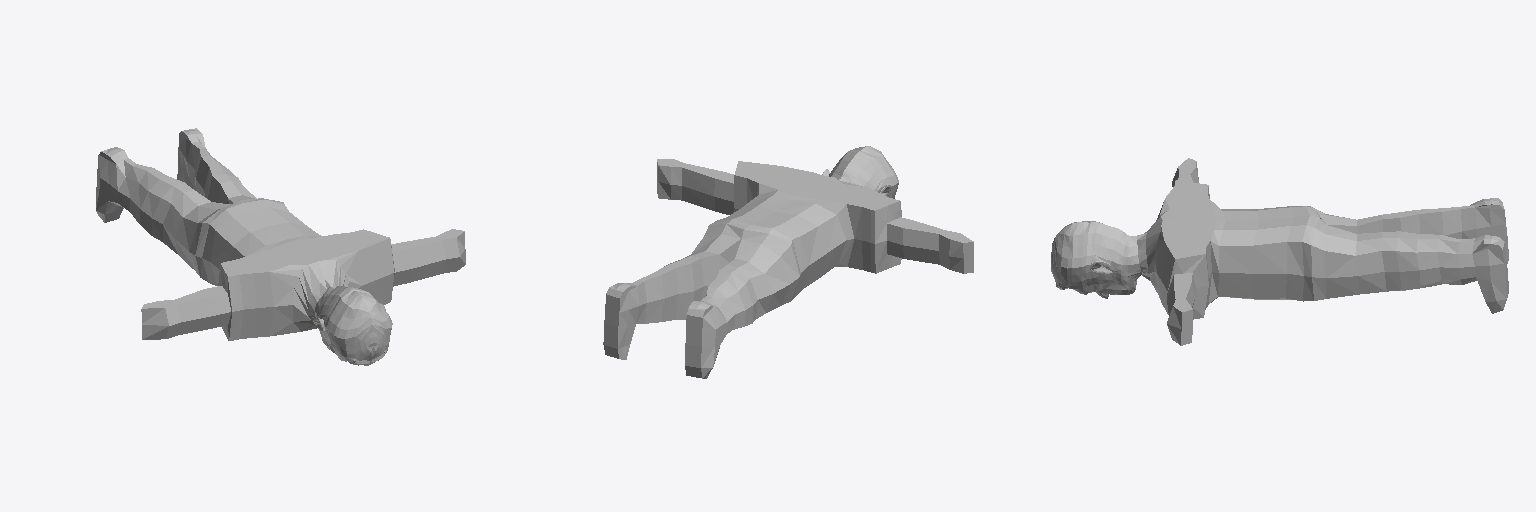
File: logan_completo4.obj
The picture shows the model from 3 angles: view 1: azimuth 30°, elevation 25°; view 2: azimuth 150°, elevation 25°; view 3: azimuth 270°, elevation 25°; orthographic projection.
Parts seen in each view (by area): view 1: Cube.009_Cube.009, Cube.010_Cube.010, Cube.001_Cube.001, Cube.002_Cube.002, Cube.014_Cube.014, Cube.017_Cube.017, Cube.011_Cube.011, Cube.007_Cube.007, Cube.003_Cube.003, Cube.005_Cube.005, Cube.004_Cube.004, Cube.013_Cube.013 (+2 smaller); view 2: Cube.009_Cube.009, Cube.001_Cube.001, Cube.010_Cube.010, Cube.005_Cube.005, Cube.003_Cube.003, Cube.004_Cube.004, Cube.006_Cube.006, Cube.017_Cube.017, Cube.002_Cube.002, Cube.011_Cube.011, Cube.014_Cube.014, Cube.007_Cube.007 (+2 smaller); view 3: Cube.009_Cube.009, Cube.004_Cube.004, Cube.005_Cube.005, Cube.014_Cube.014, Cube.006_Cube.006, Cube.008_Cube.008, Cube.002_Cube.002, Cube.001_Cube.001, Cube.003_Cube.003, Cube.019_Cube.019, Cube.017_Cube.017, Cube.010_Cube.010.
Part boxes in pixels (bbox=[...]): Cube.009_Cube.009: bbox=[210, 207, 392, 365]; Cube.010_Cube.010: bbox=[218, 256, 273, 340]; Cube.001_Cube.001: bbox=[152, 182, 229, 275]; Cube.002_Cube.002: bbox=[108, 158, 183, 235]; Cube.014_Cube.014: bbox=[335, 229, 394, 304]; Cube.017_Cube.017: bbox=[391, 237, 445, 286]; Cube.011_Cube.011: bbox=[175, 286, 230, 334]; Cube.007_Cube.007: bbox=[195, 200, 248, 285]; Cube.003_Cube.003: bbox=[96, 147, 127, 222]; Cube.005_Cube.005: bbox=[187, 142, 238, 198]; Cube.004_Cube.004: bbox=[208, 174, 256, 203]; Cube.013_Cube.013: bbox=[141, 301, 168, 339]; Cube.009_Cube.009: bbox=[728, 146, 898, 289]; Cube.001_Cube.001: bbox=[720, 229, 799, 323]; Cube.010_Cube.010: bbox=[837, 188, 901, 273]; Cube.005_Cube.005: bbox=[631, 260, 693, 323]; Cube.003_Cube.003: bbox=[685, 301, 721, 378]; Cube.004_Cube.004: bbox=[675, 224, 743, 300]; Cube.006_Cube.006: bbox=[603, 283, 639, 359]; Cube.017_Cube.017: bbox=[682, 164, 733, 214]; Cube.002_Cube.002: bbox=[701, 270, 753, 342]; Cube.011_Cube.011: bbox=[887, 217, 946, 264]; Cube.014_Cube.014: bbox=[734, 161, 780, 211]; Cube.007_Cube.007: bbox=[745, 221, 808, 300]; Cube.009_Cube.009: bbox=[1051, 198, 1293, 303]; Cube.004_Cube.004: bbox=[1311, 219, 1401, 300]; Cube.005_Cube.005: bbox=[1396, 231, 1476, 290]; Cube.014_Cube.014: bbox=[1157, 241, 1211, 319]; Cube.006_Cube.006: bbox=[1472, 235, 1508, 313]; Cube.008_Cube.008: bbox=[1286, 216, 1319, 301]; Cube.002_Cube.002: bbox=[1399, 204, 1476, 238]; Cube.001_Cube.001: bbox=[1315, 209, 1400, 233]; Cube.003_Cube.003: bbox=[1473, 198, 1508, 263]; Cube.019_Cube.019: bbox=[1167, 304, 1192, 345]; Cube.017_Cube.017: bbox=[1167, 273, 1195, 315]; Cube.010_Cube.010: bbox=[1166, 180, 1209, 198].
Size of the model in its own units: 24.48 by 6.07 by 30.32.